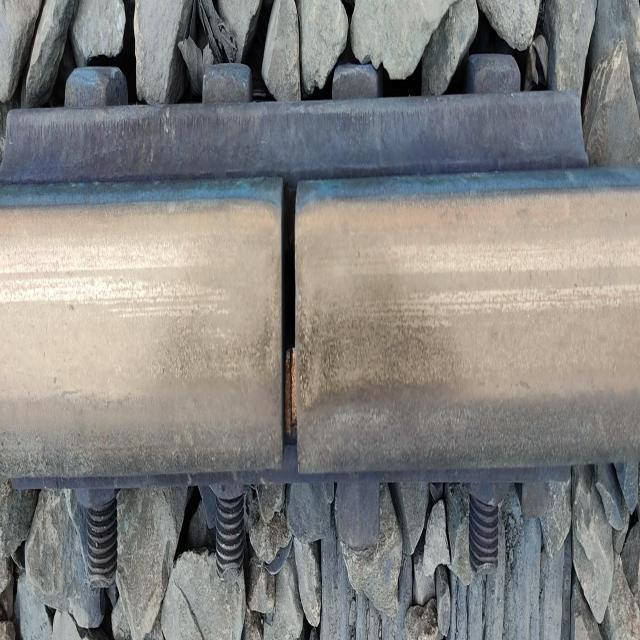Good Joint: (0, 55, 640, 585)
